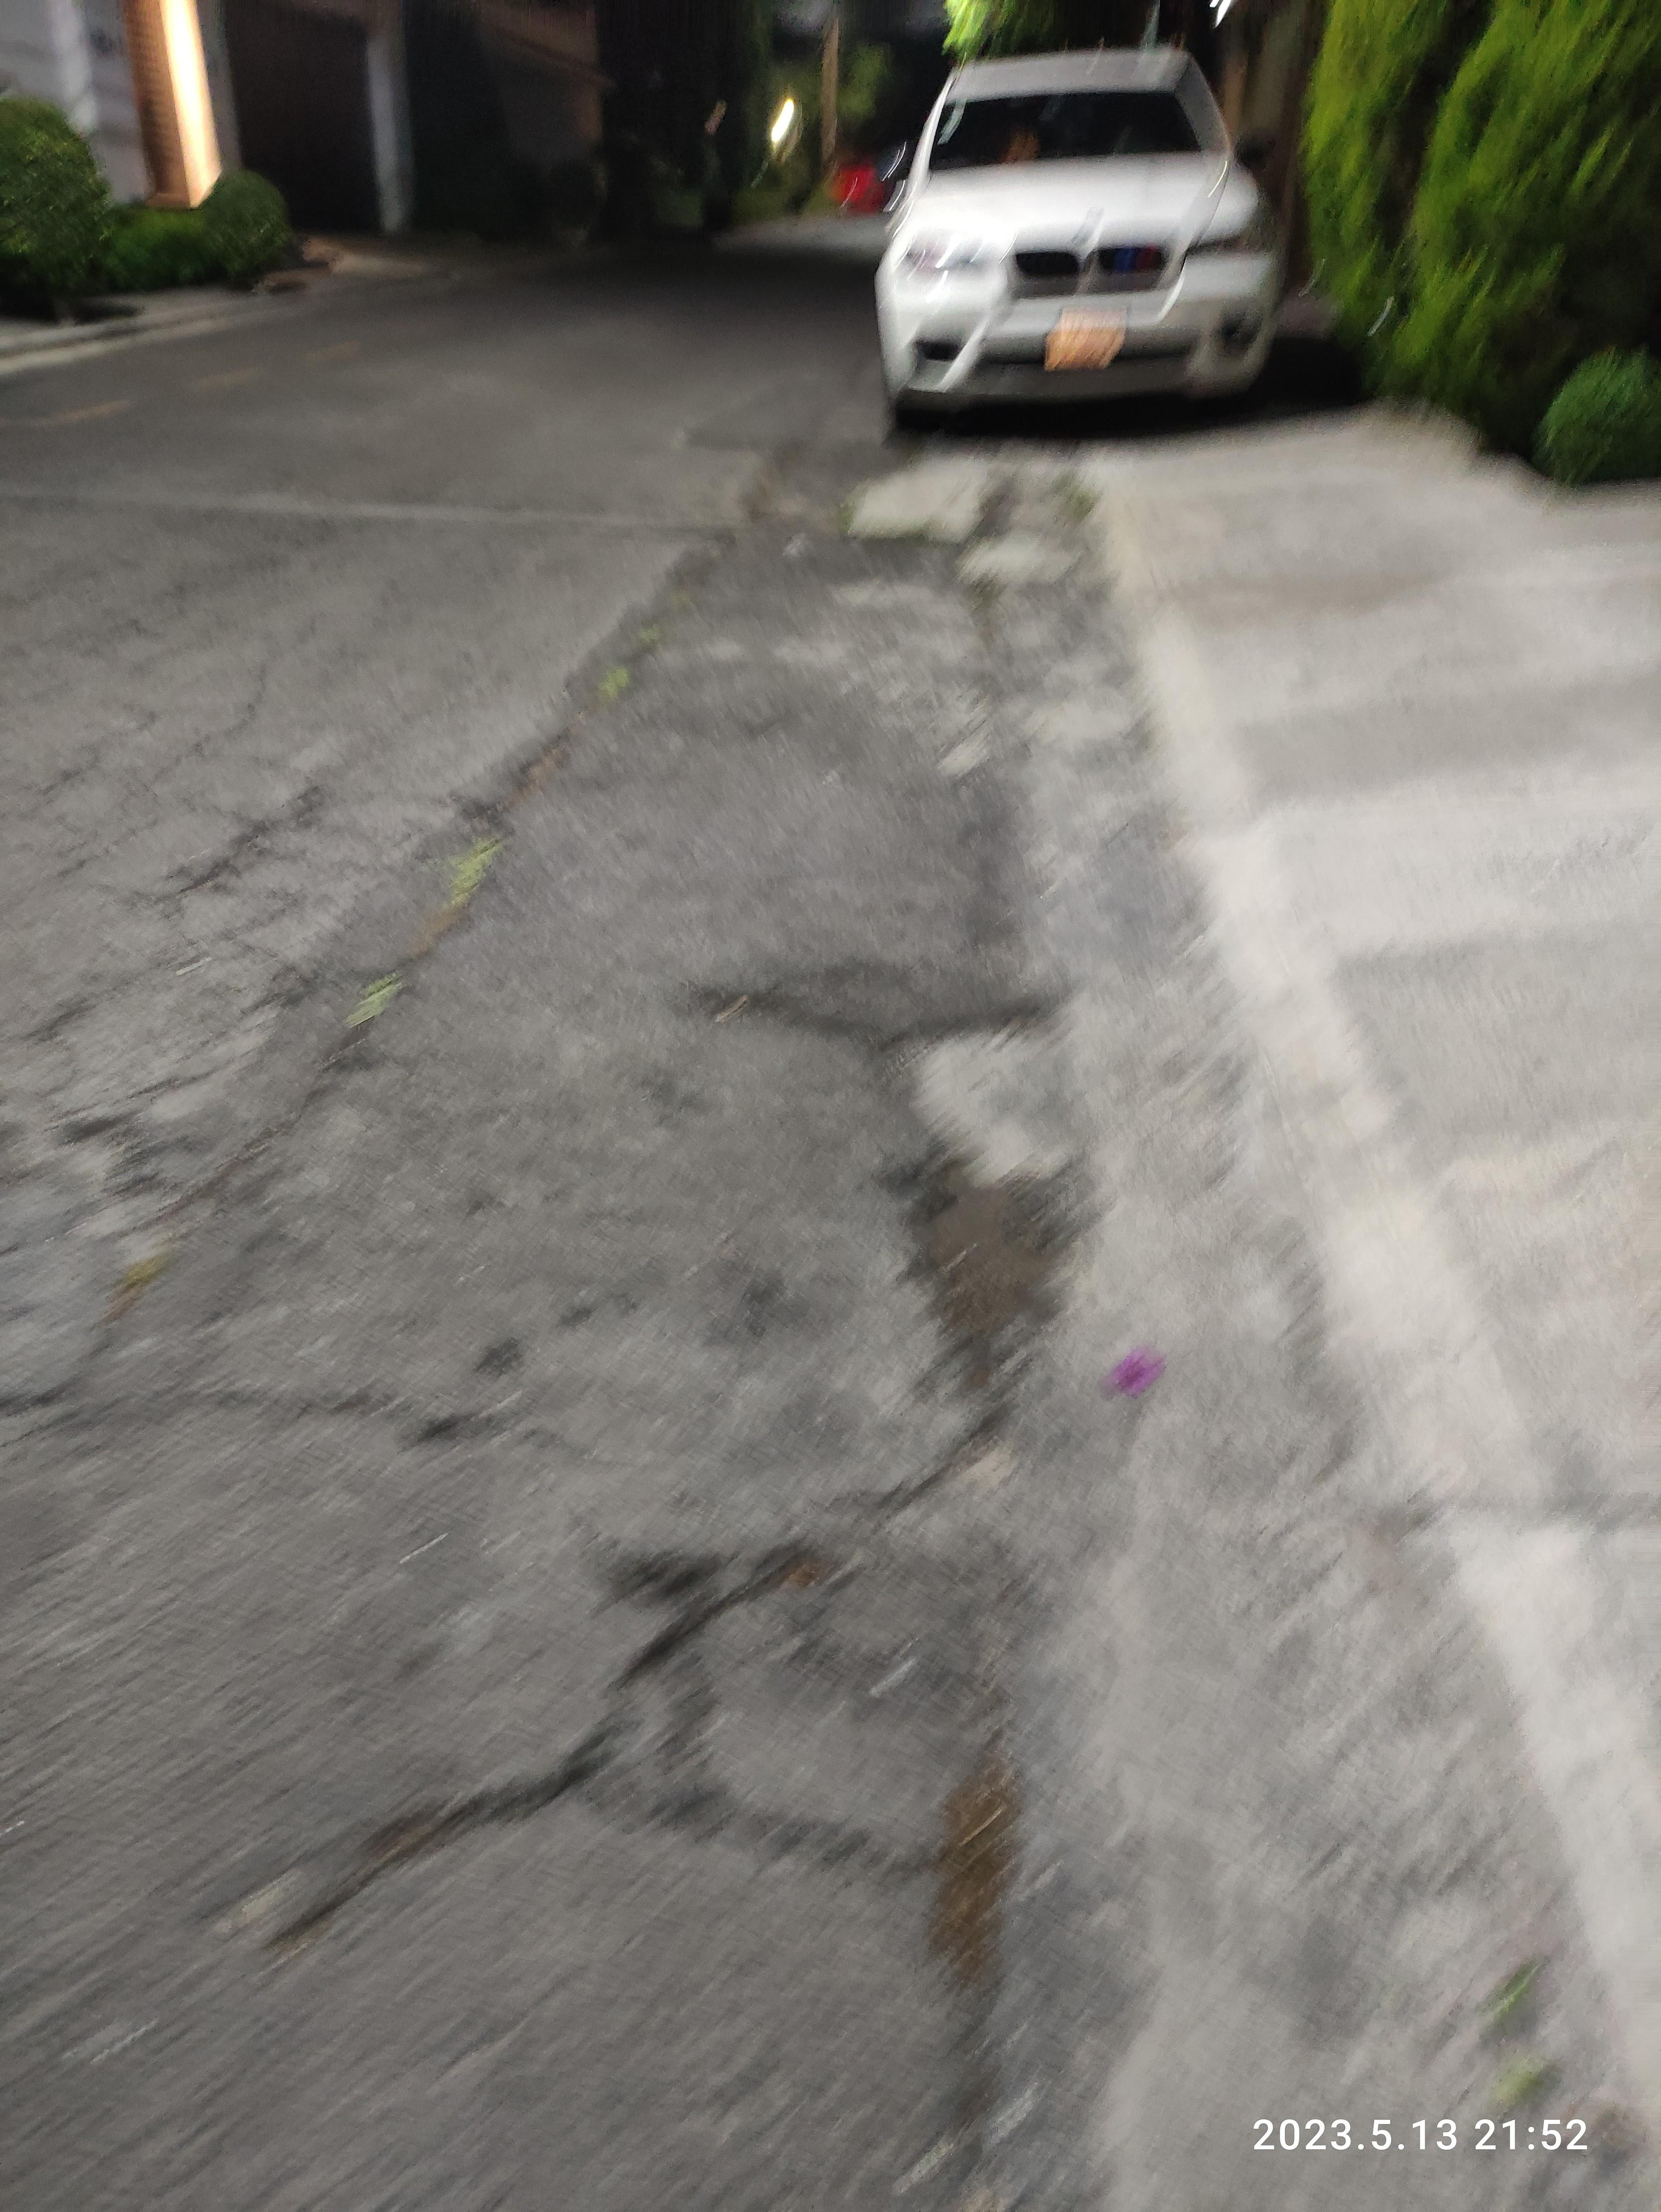alligator-crack: (0, 492, 1115, 2043)
